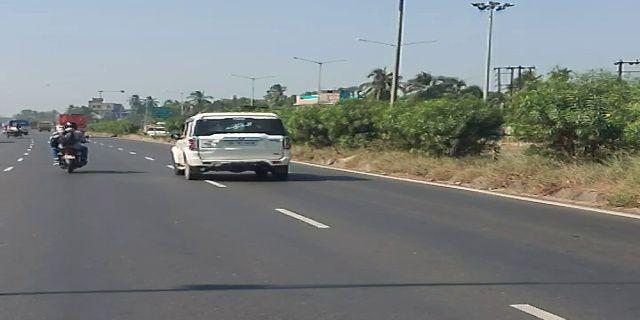Car: (167, 110, 294, 186)
Motorbike: (47, 118, 92, 177)
